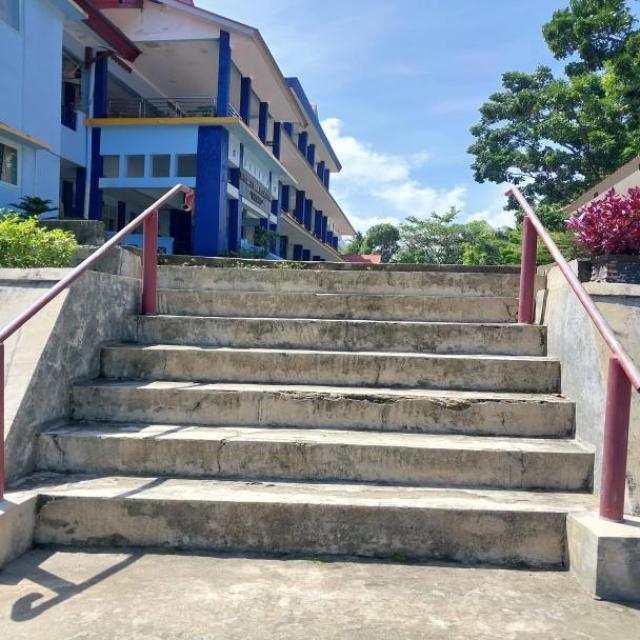stairs ahead at: (34, 290, 591, 557)
